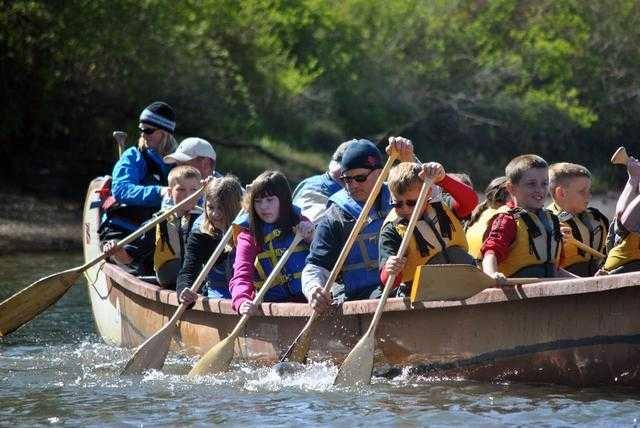kayak: (89, 256, 635, 388)
